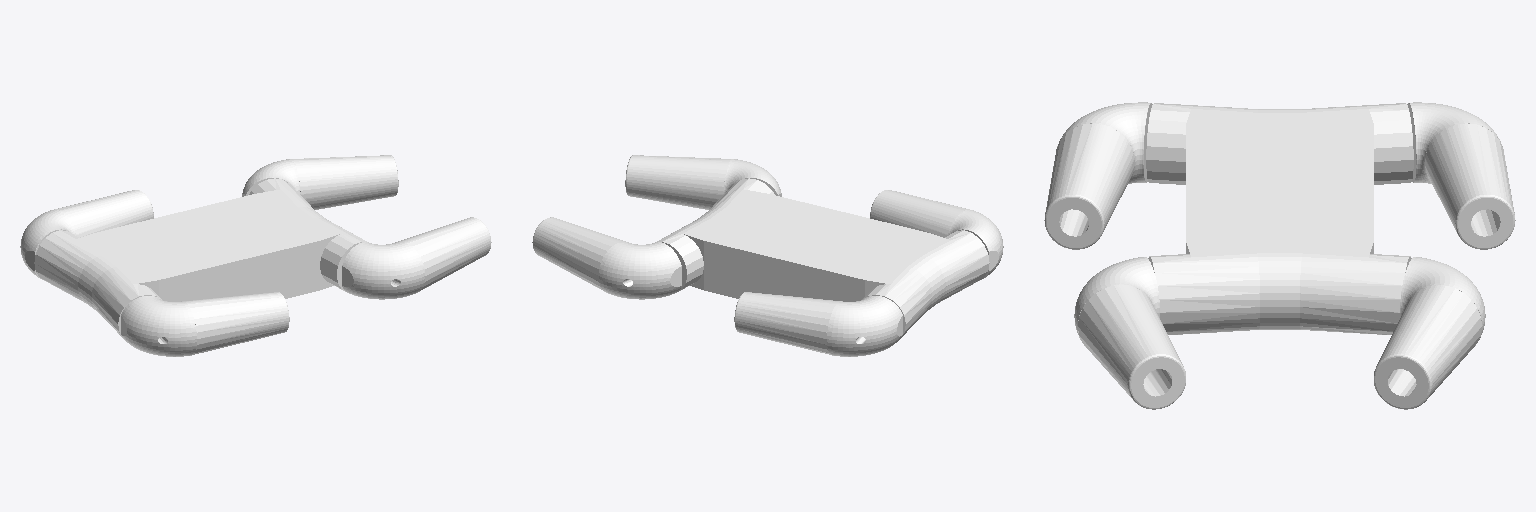
robot.urdf — 8_degree:
<?xml version="1.0" encoding="utf-8"?>
<!-- This URDF was automatically created by SolidWorks to URDF Exporter! Originally created by [author] ([email redacted]) 
     Commit Version: 1.5.1-0-g916b5db  Build Version: 1.5.7152.31018
     For more information, please see http://wiki.ros.org/sw_urdf_exporter -->
<robot
  name="8_degree">
  <link
    name="base_link">
    <inertial>
      <origin
        xyz="-4.1633E-17 2.1006E-08 5.2042E-18"
        rpy="0 0 0" />
      <mass
        value="2.924" />
      <inertia
        ixx="0.0102224"
        ixy="-3.408E-18"
        ixz="-1.5166E-10"
        iyy="0.0403090"
        iyz="-2.4658E-18"
        izz="0.0481413" />
    </inertial>
    <visual>
      <origin
        xyz="0 0 0"
        rpy="0 0 0" />
      <geometry>
        <mesh
          filename="package://8_degree/meshes/base_link.STL" />
      </geometry>
      <material
        name="">
        <color
          rgba="1 1 1 1" />
      </material>
    </visual>
    <collision>
      <origin
        xyz="0 0 0"
        rpy="0 0 0" />
      <geometry>
        <mesh
          filename="package://8_degree/meshes/base_link.STL" />
      </geometry>
    </collision>
  </link>
  <link
    name="left_front_link">
    <inertial>
      <origin
        xyz="-2.73E-08 0.05683 -0.036011"
        rpy="0 0 0" />
      <mass
        value="0.092" />
      <inertia
        ixx="0.0002604"
        ixy="5.9223E-10"
        ixz="9.3631E-10"
        iyy="0.0000526"
        iyz="2.27E-05"
        izz="0.0002575" />
    </inertial>
    <visual>
      <origin
        xyz="0 0 0"
        rpy="0 0 0" />
      <geometry>
        <mesh
          filename="package://8_degree/meshes/left_front_link.STL" />
      </geometry>
      <material
        name="">
        <color
          rgba="1 1 1 1" />
      </material>
    </visual>
    <collision>
      <origin
        xyz="0 0 0"
        rpy="0 0 0" />
      <geometry>
        <mesh
          filename="package://8_degree/meshes/left_front_link.STL" />
      </geometry>
    </collision>
  </link>
  <joint
    name="left_front_leg"
    type="continuous">
    <origin
      xyz="0.14433 0.102 0"
      rpy="1.7104 1.5708 0" />
    <parent
      link="base_link" />
    <child
      link="left_front_link" />
    <axis
      xyz="0 0 -1" />
    <limit
      effort="5"
      velocity="487" />
  </joint>
  <link
    name="right_front_link">
    <inertial>
      <origin
        xyz="2.73E-08 0.05683 0.036011"
        rpy="0 0 0" />
      <mass
        value="0.092" />
      <inertia
        ixx="0.0002604"
        ixy="-5.9223E-10"
        ixz="9.3631E-10"
        iyy="0.0000526"
        iyz="-2.27E-05"
        izz="0.0002575" />
    </inertial>
    <visual>
      <origin
        xyz="0 0 0"
        rpy="0 0 0" />
      <geometry>
        <mesh
          filename="package://8_degree/meshes/right_front_link.STL" />
      </geometry>
      <material
        name="">
        <color
          rgba="1 1 1 1" />
      </material>
    </visual>
    <collision>
      <origin
        xyz="0 0 0"
        rpy="0 0 0" />
      <geometry>
        <mesh
          filename="package://8_degree/meshes/right_front_link.STL" />
      </geometry>
    </collision>
  </link>
  <joint
    name="right_front_leg"
    type="continuous">
    <origin
      xyz="0.14433 -0.102 0"
      rpy="1.4312 1.5708 0" />
    <parent
      link="base_link" />
    <child
      link="right_front_link" />
    <axis
      xyz="0 0 1" />
    <limit
      effort="5"
      velocity="487" />
  </joint>
  <link
    name="right_back_link">
    <inertial>
      <origin
        xyz="4.6838E-09 0.05683 0.03601"
        rpy="0 0 0" />
      <mass
        value="0.092" />
      <inertia
        ixx="0.0002604"
        ixy="-5.3764E-10"
        ixz="5.9261E-10"
        iyy="0.0000526"
        iyz="-2.27E-05"
        izz="0.0002575" />
    </inertial>
    <visual>
      <origin
        xyz="0 0 0"
        rpy="0 0 0" />
      <geometry>
        <mesh
          filename="package://8_degree/meshes/right_back_link.STL" />
      </geometry>
      <material
        name="">
        <color
          rgba="1 1 1 1" />
      </material>
    </visual>
    <collision>
      <origin
        xyz="0 0 0"
        rpy="0 0 0" />
      <geometry>
        <mesh
          filename="package://8_degree/meshes/right_back_link.STL" />
      </geometry>
    </collision>
  </link>
  <joint
    name="right_back_leg"
    type="continuous">
    <origin
      xyz="-0.14433 -0.102 0"
      rpy="1.7104 1.5708 0" />
    <parent
      link="base_link" />
    <child
      link="right_back_link" />
    <axis
      xyz="0 0 1" />
    <limit
      effort="5"
      velocity="487" />
  </joint>
  <link
    name="left_back_link">
    <inertial>
      <origin
        xyz="-4.6838E-09 0.05683 -0.03601"
        rpy="0 0 0" />
      <mass
        value="0.092" />
      <inertia
        ixx="0.0002604"
        ixy="5.3764E-10"
        ixz="5.9261E-10"
        iyy="0.0000526"
        iyz="2.27E-05"
        izz="0.0002575" />
    </inertial>
    <visual>
      <origin
        xyz="0 0 0"
        rpy="0 0 0" />
      <geometry>
        <mesh
          filename="package://8_degree/meshes/left_back_link.STL" />
      </geometry>
      <material
        name="">
        <color
          rgba="1 1 1 1" />
      </material>
    </visual>
    <collision>
      <origin
        xyz="0 0 0"
        rpy="0 0 0" />
      <geometry>
        <mesh
          filename="package://8_degree/meshes/left_back_link.STL" />
      </geometry>
    </collision>
  </link>
  <joint
    name="left_back_leg"
    type="continuous">
    <origin
      xyz="-0.14433 0.102 0"
      rpy="1.4312 1.5708 0" />
    <parent
      link="base_link" />
    <child
      link="left_back_link" />
    <axis
      xyz="0 0 -1" />
    <limit
      effort="5"
      velocity="487" />
  </joint>
</robot>

--- Render facts (derived) ---
3 views of the same robot in one strip: view 1: azimuth 30°, elevation 25°; view 2: azimuth 150°, elevation 25°; view 3: azimuth 270°, elevation 25° (orthographic).
Robot: 8_degree — 5 links, 4 joints (4 continuous); root link base_link; default pose: every joint at zero.
Links seen in each view (by area): view 1: base_link, right_back_link, right_front_link, left_front_link, left_back_link; view 2: base_link, left_back_link, left_front_link, right_front_link, right_back_link; view 3: base_link, left_front_link, right_front_link, right_back_link, left_back_link.
Link boxes in pixels (box(x1,y1,x2,y2)): base_link: box(34, 178, 366, 337); right_back_link: box(121, 292, 289, 356); right_front_link: box(342, 217, 491, 299); left_front_link: box(242, 155, 398, 209); left_back_link: box(20, 190, 153, 279); base_link: box(657, 178, 989, 337); left_back_link: box(734, 292, 902, 356); left_front_link: box(532, 217, 681, 299); right_front_link: box(625, 155, 781, 209); right_back_link: box(870, 190, 1003, 279); base_link: box(1146, 103, 1413, 334); left_front_link: box(1374, 257, 1485, 409); right_front_link: box(1074, 257, 1185, 409); right_back_link: box(1044, 102, 1152, 249); left_back_link: box(1407, 102, 1515, 249).
Size in the robot's own frame: 0.4898 by 0.3749 by 0.064 metres.
Meshes: 5 distinct files referenced, 5 mesh visuals loaded (5 binary STL).